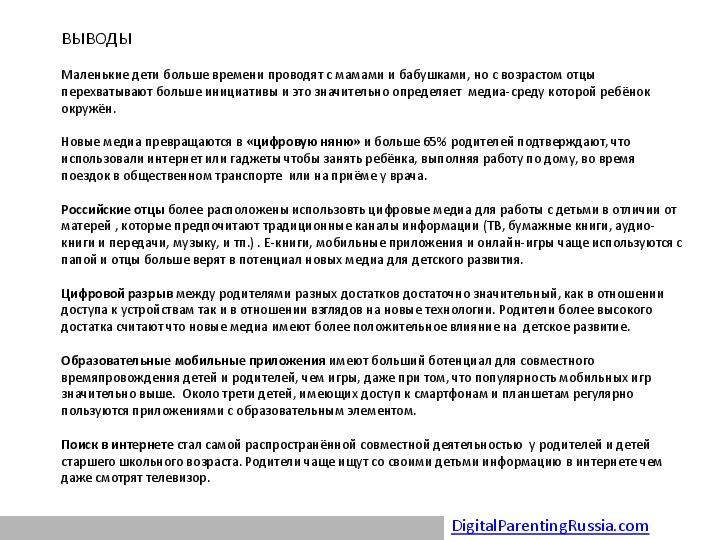paragraph: (45, 56, 690, 501)
subtitle: (450, 515, 671, 540)
title: (51, 23, 146, 51)
